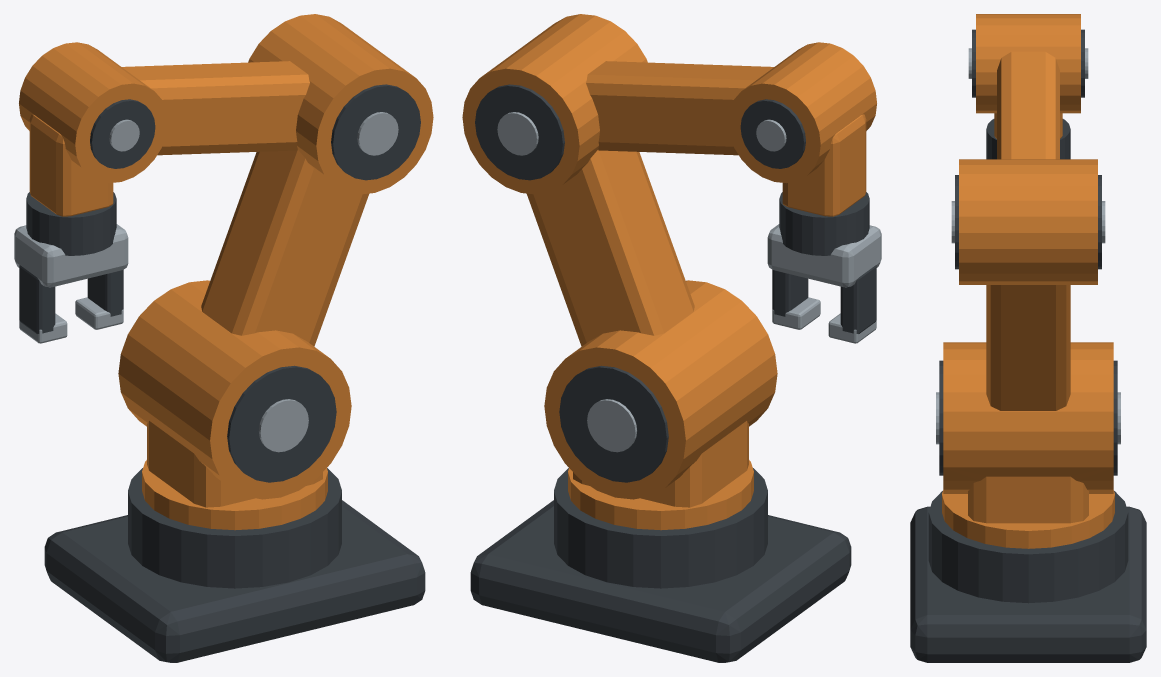
The model's file is NEW_RECOVERY_134_LOD1.glb.
The picture shows the model from 3 angles, left to right: view 1: azimuth 30°, elevation 25°; view 2: azimuth 150°, elevation 25°; view 3: azimuth 270°, elevation 25°; orthographic projection. The views are drawn at different scales.
Visible parts, largest first — view 1: RobotArm_Static_Solid; view 2: RobotArm_Static_Solid; view 3: RobotArm_Static_Solid.
Boxes of the visible parts, <box> form: RobotArm_Static_Solid: <box>14,14,433,662</box>; RobotArm_Static_Solid: <box>462,14,881,662</box>; RobotArm_Static_Solid: <box>910,14,1146,662</box>.
Bounding box in the file's own units: 1.51 × 2.21 × 0.9.
